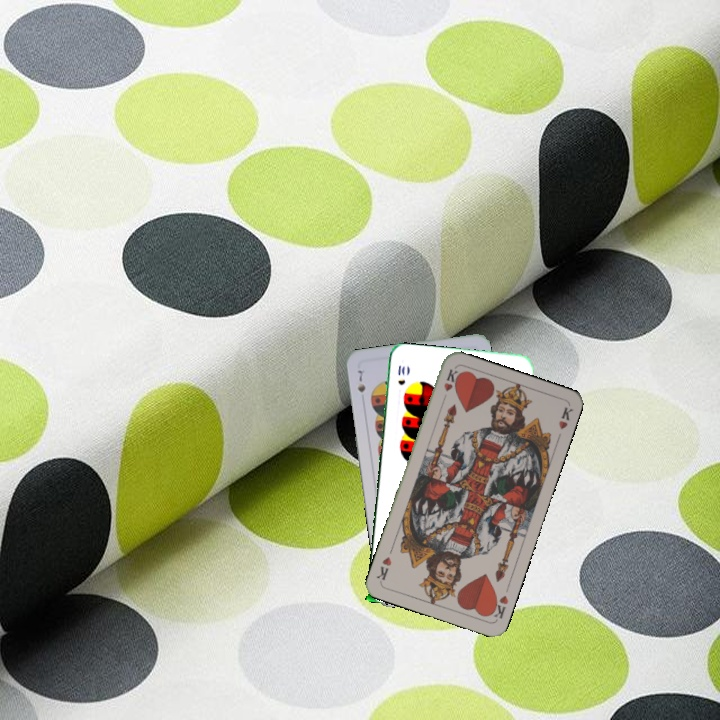HK: (438, 365, 461, 405), (485, 591, 511, 621)
S10: (394, 361, 408, 388)
S7: (353, 364, 368, 395)
